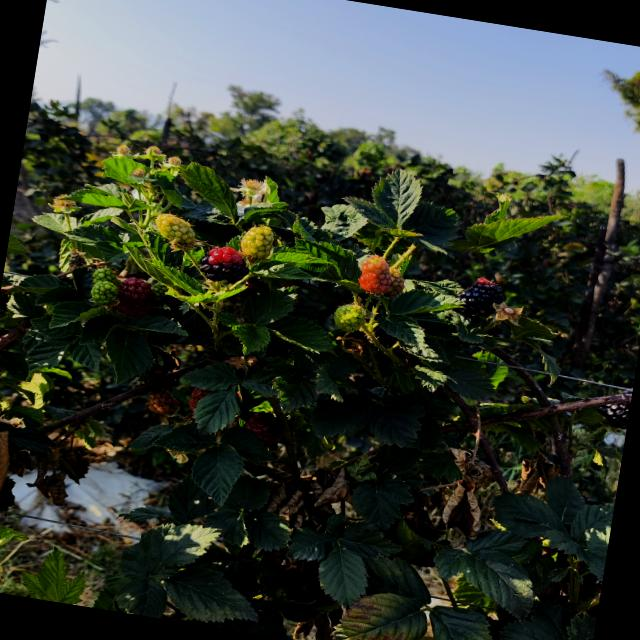maduro: (459, 278, 503, 317)
marron: (200, 247, 249, 284)
naranja: (116, 278, 153, 316), (244, 412, 281, 448), (359, 256, 393, 295), (146, 387, 180, 417), (385, 267, 405, 298), (189, 388, 211, 410)
verde: (156, 214, 195, 244), (240, 226, 275, 259), (334, 304, 367, 331)
